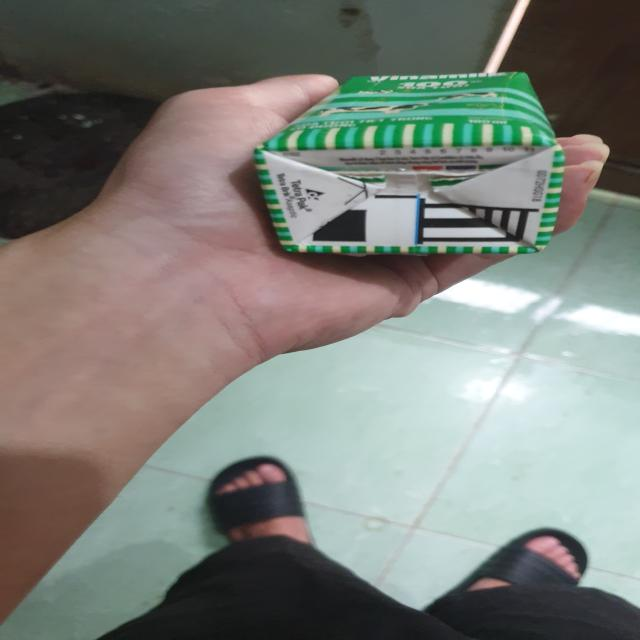Vina: (252, 70, 570, 255)
